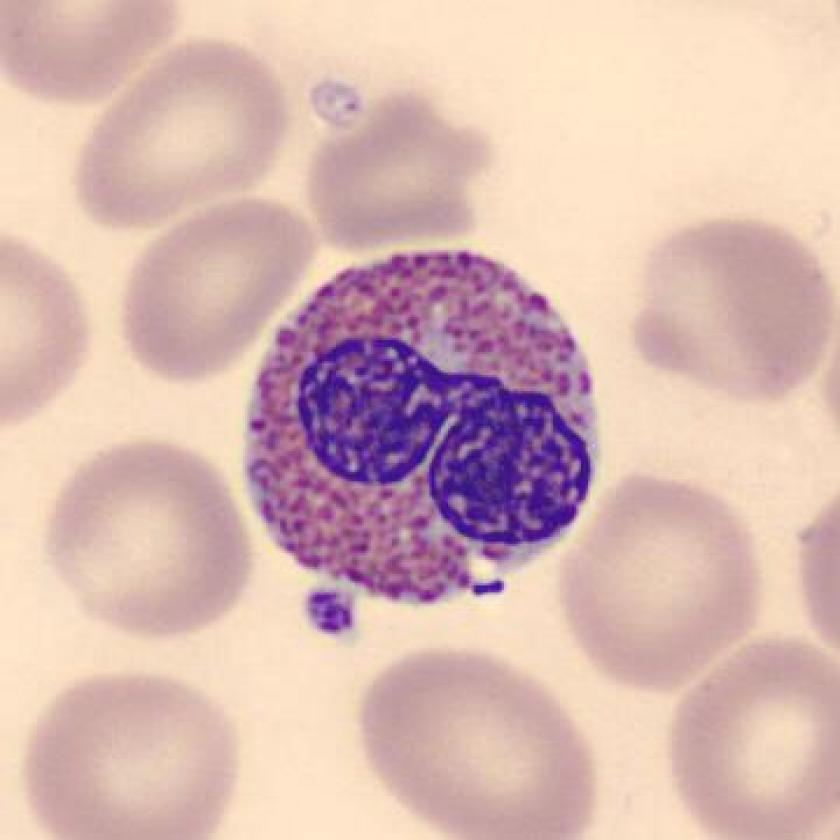eosinophil: (232, 239, 617, 612)
